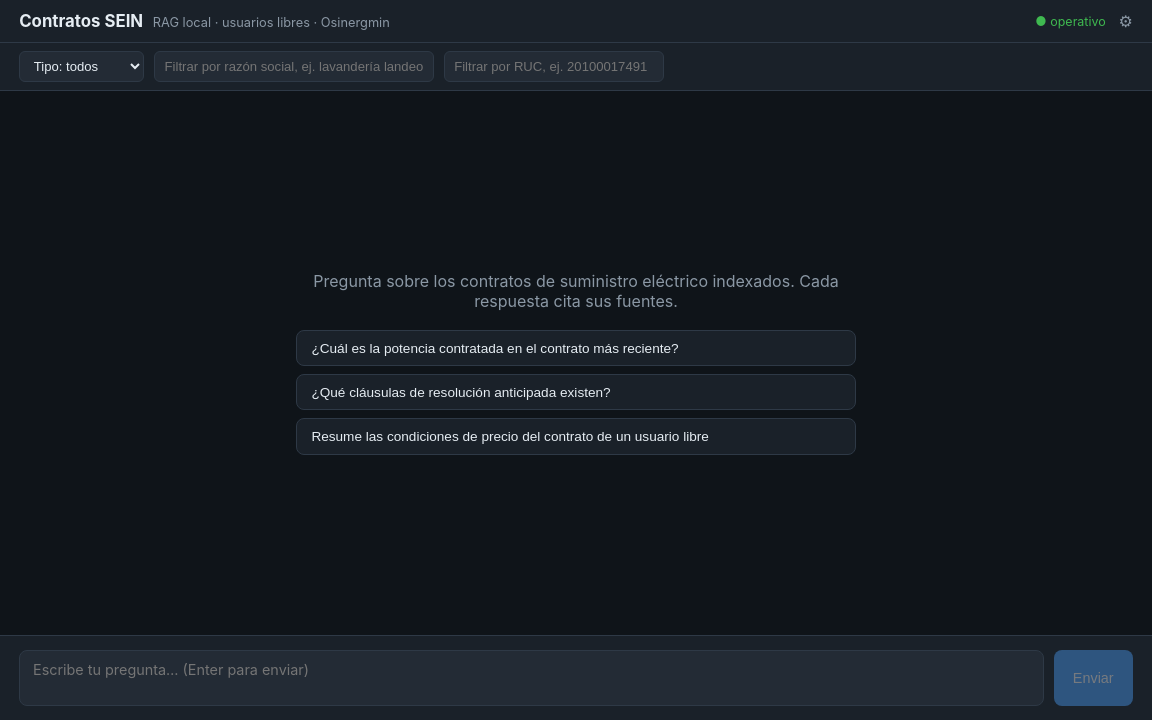
it: App › renderiza tokens en streaming y la respuesta final con su fuente
The image size is (1152, 720).
Type "¿Potencia contratada?" into the text box with placeholder "Escribe tu pregunta… (Enter para enviar)".
click(532, 678); type("¿Potencia contratada?")  # box [19, 650, 1044, 706]
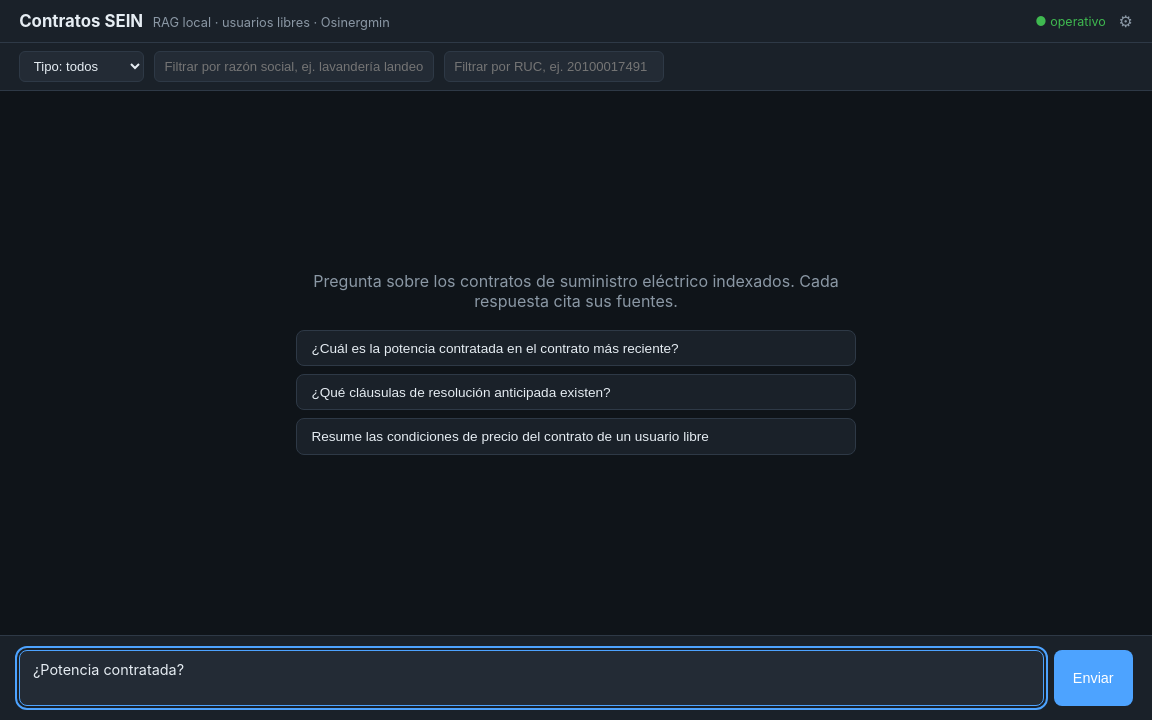
Click the button "Enviar".
click(1093, 678)  # box [1054, 650, 1133, 706]
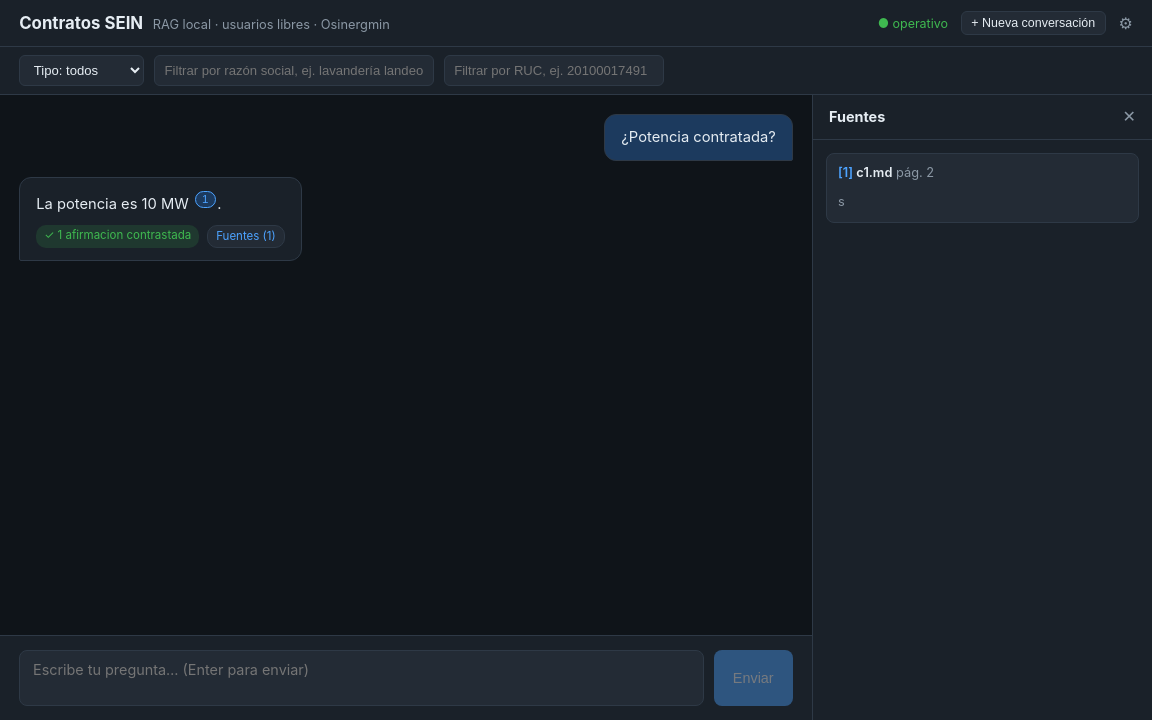
Check: the text "La potencia es 10 MW 1 ." is shown, box [36, 191, 222, 213]
Check: the text "c1.md" is shown, box [856, 165, 892, 180]
Check: the text "✓ 1 afirmacion contrastada" is shown, box [36, 225, 199, 248]
